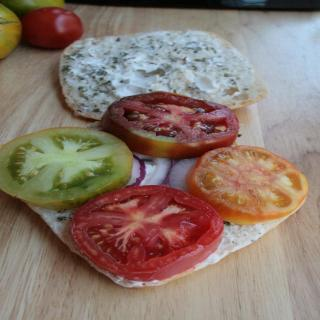tomato: (66, 185, 224, 283), (0, 126, 135, 210), (100, 91, 242, 160), (186, 144, 309, 223), (15, 1, 84, 47), (0, 2, 23, 61)
